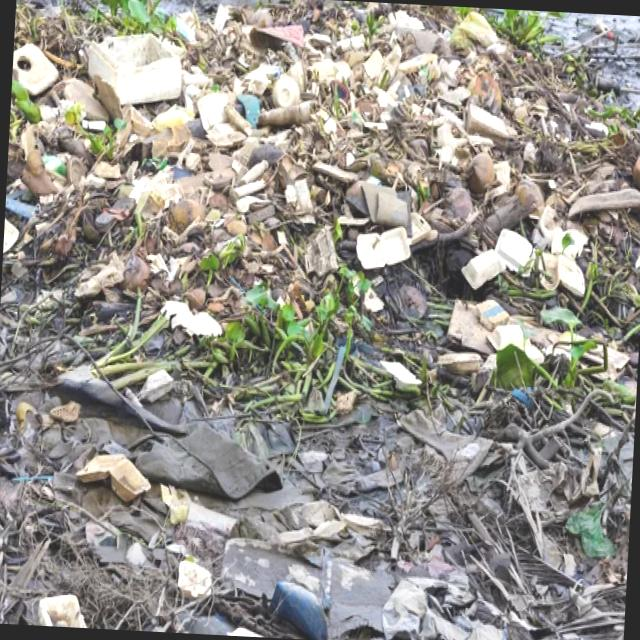garbage: (54, 32, 612, 485)
